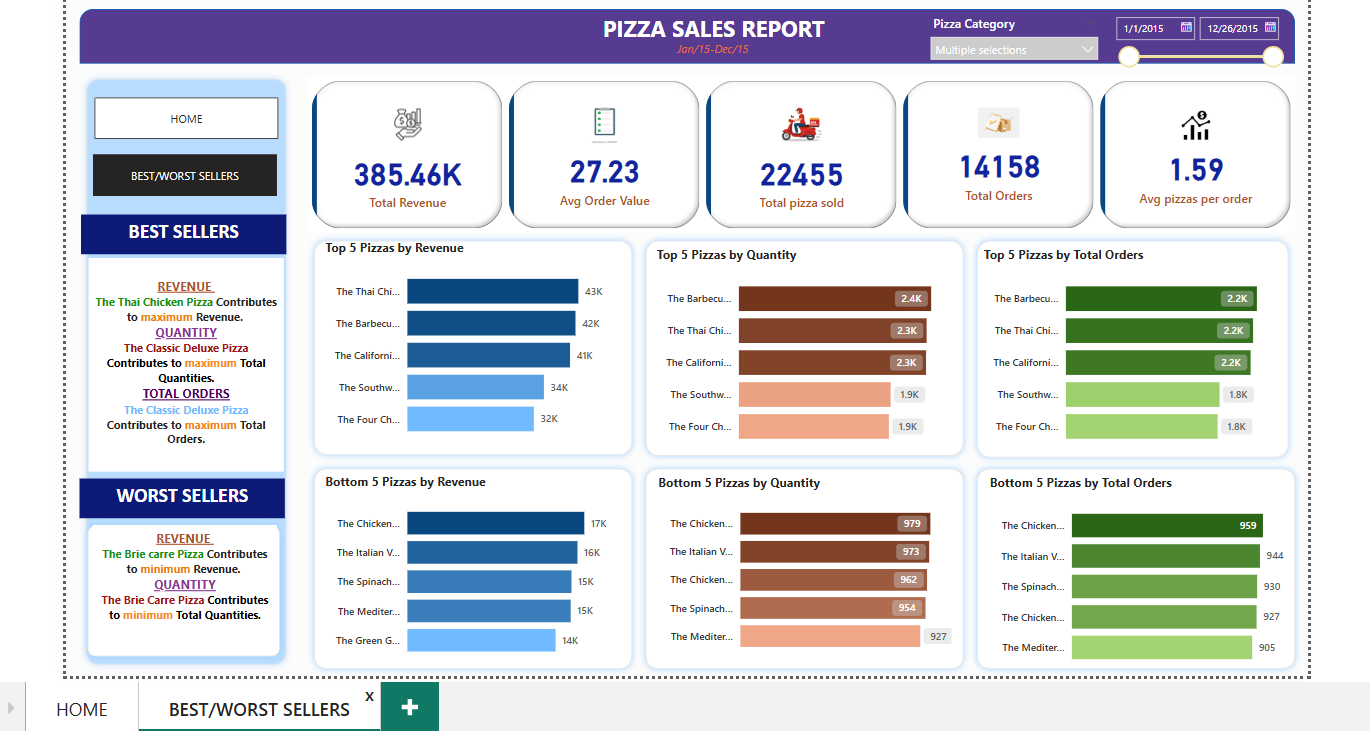

This screenshot's page, from the dashboard's own definition file:
{"tool":"powerbi","page":{"name":"BEST/WORST SELLERS","canvas":[1500,820],"ordinal":1},"visuals":[{"type":"cardVisual","fields":{"Data":["pizza_db pizza_sales.Total Revenue","pizza_db pizza_sales.Avg Order Value","pizza_db pizza_sales.Total pizza sold","pizza_db pizza_sales.Total Orders","pizza_db pizza_sales.Avg pizzas per order"]},"box":[292,96,1192,188],"z":0},{"type":"shape","box":[16,14,1468,66],"z":1000},{"type":"textbox","box":[572,14,420,48],"z":2000},{"type":"textbox","box":[708,48,146,42],"z":3000},{"type":"shape","box":[292,286,400,275],"z":4000},{"type":"shape","box":[16,90,258,724],"z":5000},{"type":"textbox","box":[28,316,236,258],"z":6000},{"type":"shape","box":[18,630,248,174],"z":7000},{"type":"textbox","box":[32,638,222,146],"z":8000},{"type":"slicer","fields":{"Values":["pizza_db pizza_sales.pizza_category"]},"box":[1034,16,222,66],"z":9000},{"type":"slicer","fields":{"Values":["pizza_db pizza_sales.order_date"]},"box":[1256,14,226,76],"z":10000},{"type":"shape","box":[692,286,400,276],"z":11000},{"type":"shape","box":[1092,286,392,278],"z":12000},{"type":"shape","box":[292,562,400,258],"z":13000},{"type":"shape","box":[692,562,400,258],"z":14000},{"type":"shape","box":[1092,562,400,258],"z":15000},{"type":"barChart","title":"Top 5 Pizzas by Revenue","fields":{"Category":["pizza_db pizza_sales.pizza_name"],"Y":["pizza_db pizza_sales.Total Revenue"]},"box":[308,292,366,254],"z":16000},{"type":"barChart","title":"Bottom 5 Pizzas by Revenue","fields":{"Category":["pizza_db pizza_sales.pizza_name"],"Y":["pizza_db pizza_sales.Total Revenue"]},"box":[308,574,366,236],"z":17000},{"type":"barChart","title":"Top 5 Pizzas by Quantity","fields":{"Category":["pizza_db pizza_sales.pizza_name"],"Y":["pizza_db pizza_sales.Total pizza sold"]},"box":[708,300,366,254],"z":18000},{"type":"barChart","title":"Bottom 5 Pizzas by Quantity","fields":{"Category":["pizza_db pizza_sales.pizza_name"],"Y":["pizza_db pizza_sales.Total pizza sold"]},"box":[710,576,364,228],"z":19000},{"type":"barChart","title":"Top 5 Pizzas by Total Orders","fields":{"Category":["pizza_db pizza_sales.pizza_name"],"Y":["pizza_db pizza_sales.Total Orders"]},"box":[1104,300,366,254],"z":20000},{"type":"barChart","title":"Bottom 5 Pizzas by Total Orders","fields":{"Category":["pizza_db pizza_sales.pizza_name"],"Y":["pizza_db pizza_sales.Total Orders"]},"box":[1110,576,366,244],"z":21000},{"type":"textbox","box":[18,262,248,48],"z":22000},{"type":"textbox","box":[16,582,248,48],"z":23000},{"type":"pageNavigator","box":[32,190,222,50],"z":24000},{"type":"pageNavigator","box":[34,122,222,50],"z":25000}]}

Visuals, with their boxes on the page's 1500x820 design canvas (x1, y1, x2, y2). These are canvas units, not pixel positions in the 1370x731 screenshot, which may show the page scaled, cropped or inside an application window:
cardVisual - pizza_db pizza_sales.Total Revenue x pizza_db pizza_sales.Avg Order Value: box(292, 96, 1484, 284)
shape: box(16, 14, 1484, 80)
textbox: box(572, 14, 992, 62)
textbox: box(708, 48, 854, 90)
shape: box(292, 286, 692, 561)
shape: box(16, 90, 274, 814)
textbox: box(28, 316, 264, 574)
shape: box(18, 630, 266, 804)
textbox: box(32, 638, 254, 784)
slicer - pizza_db pizza_sales.pizza_category: box(1034, 16, 1256, 82)
slicer - pizza_db pizza_sales.order_date: box(1256, 14, 1482, 90)
shape: box(692, 286, 1092, 562)
shape: box(1092, 286, 1484, 564)
shape: box(292, 562, 692, 820)
shape: box(692, 562, 1092, 820)
shape: box(1092, 562, 1492, 820)
"Top 5 Pizzas by Revenue" barChart: box(308, 292, 674, 546)
"Bottom 5 Pizzas by Revenue" barChart: box(308, 574, 674, 810)
"Top 5 Pizzas by Quantity" barChart: box(708, 300, 1074, 554)
"Bottom 5 Pizzas by Quantity" barChart: box(710, 576, 1074, 804)
"Top 5 Pizzas by Total Orders" barChart: box(1104, 300, 1470, 554)
"Bottom 5 Pizzas by Total Orders" barChart: box(1110, 576, 1476, 820)
textbox: box(18, 262, 266, 310)
textbox: box(16, 582, 264, 630)
pageNavigator: box(32, 190, 254, 240)
pageNavigator: box(34, 122, 256, 172)
